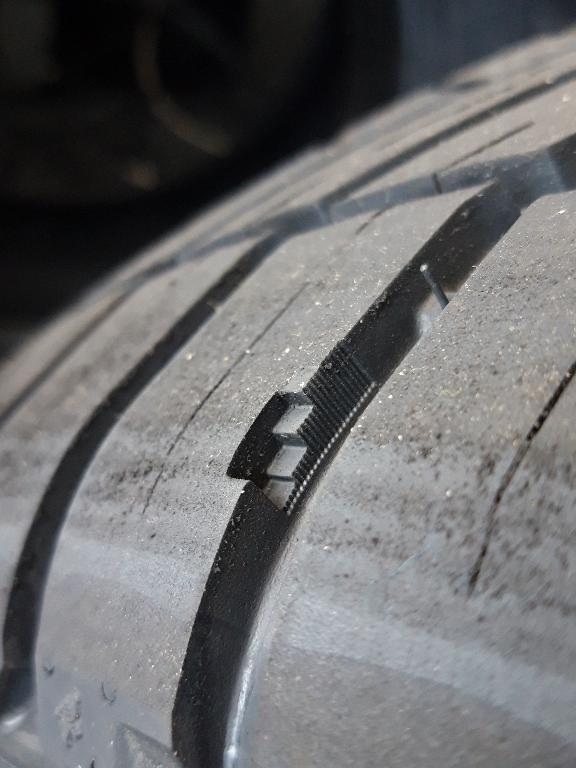temoin:75: (220, 362, 359, 524)
